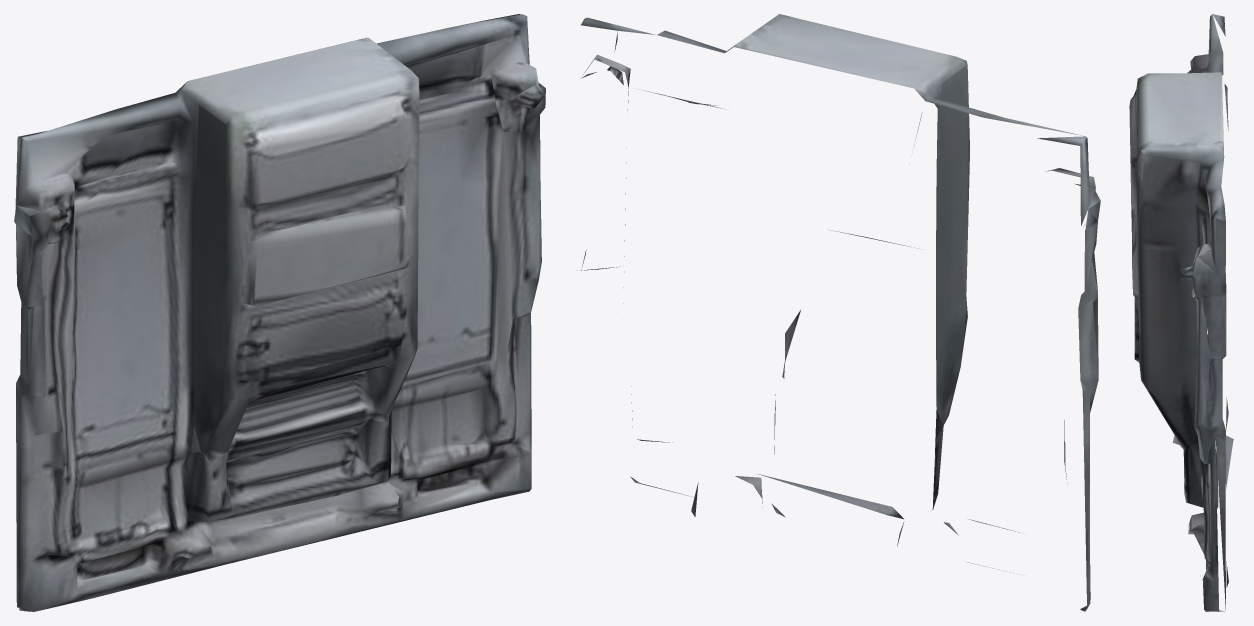
File: hangar_wall_panel_e.glb
The picture shows the model from 3 angles, left to right: view 1: azimuth 30°, elevation 25°; view 2: azimuth 150°, elevation 25°; view 3: azimuth 270°, elevation 25°; orthographic projection. The views are drawn at different scales.
Parts seen in each view (by area): view 1: hangar_wall_panel_e; view 2: hangar_wall_panel_e; view 3: hangar_wall_panel_e.
Part boxes in pixels (x1,y1,x2,y2): hangar_wall_panel_e: [14, 14, 545, 611]; hangar_wall_panel_e: [580, 14, 1100, 611]; hangar_wall_panel_e: [1129, 14, 1233, 611].
Bounding box in the file's own units: 0.1059 × 0.0956 × 0.0234.
Materials: 1 (1 with a texture image).
